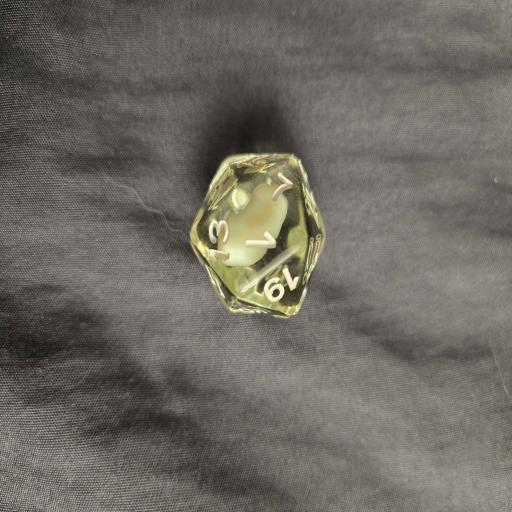twenty sided dice: (190, 152, 326, 318)
